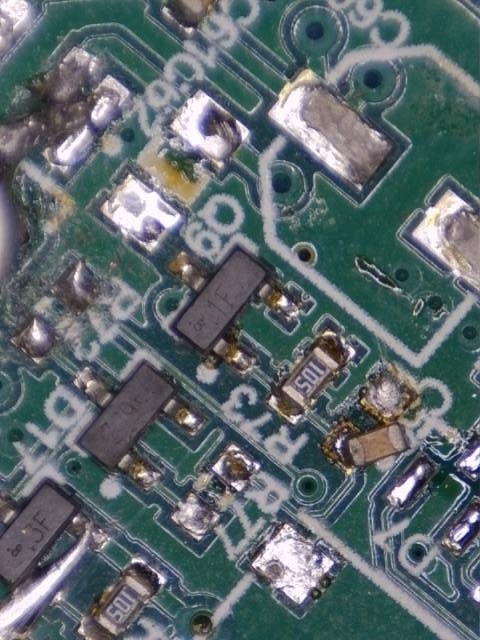pcb_defect: (0, 58, 121, 183), (0, 512, 108, 640), (319, 368, 418, 475)
